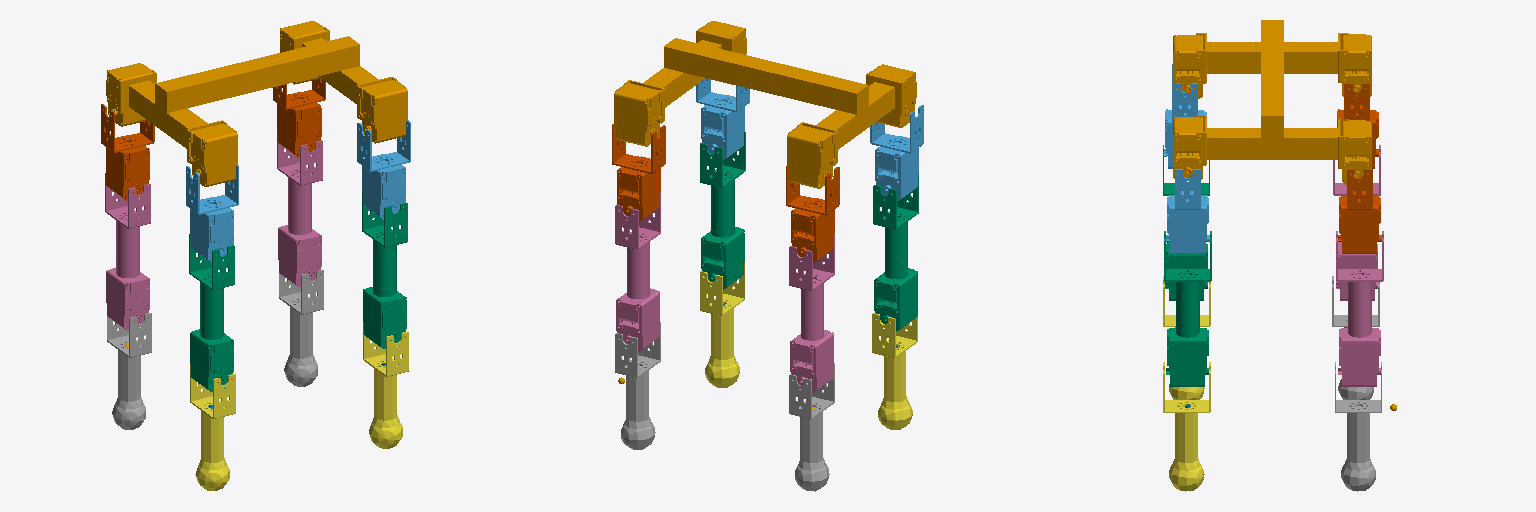
URDF robot description (mini_cheetah):
<?xml version="1.0" ?>
<robot name="mini_cheetah" xmlns:xacro="http://ros.org/wiki/xacro">
    <link name="body">
        <inertial>
            <mass value="3.3"/>
            <origin xyz="0.0 0.0 0.0"/>
            <inertia ixx="0" ixy="0" ixz="0" iyy="0" iyz="0" izz="0"/>
        </inertial>
        <visual>
            <geometry>
                <mesh filename="meshes/gujia.obj" scale="0.005 0.005 0.005"/>
            </geometry>
            <origin rpy="0 0.0 0.0" xyz="0.0 0.0 0.0"/>
        </visual>
        <collision>
            <geometry>
                <mesh filename="meshes/gujia.obj" scale="0.005 0.005 0.005"/>
            </geometry>
            <origin rpy="0 0 0" xyz="0 0 0"/>
        </collision>
    </link>

    <!--!!!!!!!!!!!! Front Right Leg !!!!!!!!!!!!!!!!!!!!!!!!!!!!!!!!!!!!-->
    <joint name="torso_to_abduct_fr_j" type="continuous">
        <axis xyz="1 0 0"/>
        <origin rpy="0 0 0" xyz="0.425 -0.33 0.06"/>
        <parent link="body"/>
        <child link="abduct_fr"/>
    </joint>
    <link name="abduct_fr">
        <inertial>
            <mass value="0.54"/>
            <origin xyz="0.425 -0.275 -0.12"/>
            <inertia ixx="0" ixy="0" ixz="0" iyy="0" iyz="0" izz="0"/>
        </inertial>
        <visual>
            <geometry>
                <mesh filename="meshes/leg1.obj" scale="0.005 0.005 0.005"/>
            </geometry>
            <origin rpy="0 0.0 0" xyz="-0.085 0.07 -0.4"/>
        </visual>
        <collision>
            <geometry>
                <mesh filename="meshes/leg1.obj" scale="0.005 0.005 0.005"/>
            </geometry>
            <origin rpy="0 0 0" xyz="-0.085 0.015 -0.33"/>
        </collision>
    </link>

    <joint name="abduct_fr_to_thigh_fr_j" type="continuous">
        <axis xyz="0 -1 0"/>
        <origin rpy="0.0 0.0 0.0" xyz="-0.01 0 -0.35"/>
        <parent link="abduct_fr"/>
        <child link="thigh_fr"/>
    </joint>
    <link name="thigh_fr">
        <inertial>
            <mass value="0.634"/>
            <origin xyz="0.0 0.016 -0.02"/>
            <inertia ixx="0" ixy="0" ixz="0"
                iyy="0" iyz="0" izz="0"/>
        </inertial>
        <visual>
            <geometry>
                <mesh filename="meshes/leg2.obj" scale="0.005 0.005 0.005"/>
            </geometry>
            <origin rpy="0.0 0 0.0" xyz="-0.04 -0.135 -0.66"/>
        </visual>
        <collision>
            <geometry>
                <mesh filename="meshes/leg2.obj" scale="0.005 0.005 0.005"/>
            </geometry>
            <origin rpy="0 0 0" xyz="-0.04 -0.135 -0.66"/>
        </collision>
    </link>

    <joint name="thigh_fr_to_knee_fr_j" type="continuous">
        <axis xyz="0 -1 0"/>
        <origin rpy="0.0 0 0.0" xyz="0.0 0.0 -0.6"/>
        <parent link="thigh_fr"/>
        <child link="shank_fr"/>
    </joint>
    <link name="shank_fr">
        <inertial>
            <mass value="0.064"/>
            <origin xyz="0.0 0.0 -0.209"/>
            <inertia ixx="0" ixy="0" ixz="0.0" iyy="0" iyz="0" izz="0"/>
        </inertial>
        <visual>
            <geometry>
                <mesh filename="meshes/leg3.obj" scale="0.005 0.005 0.005"/>
            </geometry>
            <origin rpy="0.0 0 0.0" xyz="0.015 0.09 -0.56"/>
        </visual>
        <collision>
            <geometry>
                <mesh filename="meshes/leg3.obj" scale="0.005 0.005 0.005"/>
            </geometry>
            <origin rpy="0 0 0" xyz="0.015 0.09 -0.56"/>
        </collision>
    </link>
    <link name="toe_fr">
    <contact>
      <friction_anchor/>
      <stiffness value="30000.0"/>
      <damping value="1000.0"/>
      <spinning_friction value="0.3"/>
      <lateral_friction value="3.0"/>
    </contact>
    <visual>
      <origin rpy="0 0 0" xyz="0 0 0"/>
      <geometry>
        <sphere radius="0.015"/>
      </geometry>
      <material name="darkgray"/>
    </visual>
    <collision>
      <origin rpy="0 0 0" xyz="0 0 0"/>
      <geometry>
        <sphere radius="0.015"/>
      </geometry>
    </collision>
    <inertial>
      <mass value="0.15"/>
      <inertia ixx="0" ixy="0" ixz="0.0" iyy="0" iyz="0" izz="0"/>
    </inertial>
  </link>
  <joint name="toe_fr_joint" type="fixed">
    <parent link="shank_fr"/>
    <child link="toe_fr"/>
    <origin xyz="0 0 -0.18"/>
    <dynamics damping="0.0" friction="0.0"/>
  </joint>

 
<!--!!!!!!!!!!!! Front Left Leg !!!!!!!!!!!!!!!!!!!!!!!!!!!!!!!!!!!!-->
    <joint name="torso_to_abduct_fl_j" type="continuous">
        <axis xyz="1 0 0"/>
        <origin rpy="0 0 0" xyz="0.425 0.53 0.06"/>
        <parent link="body"/>
        <child link="abduct_fl"/>
    </joint>
    <link name="abduct_fl">
        <inertial>
            <mass value="0.54"/>
            <origin xyz="0.0 0.036 0."/>
            <inertia ixx="0" ixy="0" ixz="0.0" iyy="0" iyz="0" izz="0"/>
        </inertial>
        <visual>
            <geometry>
                <mesh filename="meshes/leg1.obj" scale="0.005 0.005 0.005"/>
            </geometry>
            <origin rpy="0 0.0 0" xyz="-0.085 -0.07 -0.4"/>
        </visual>
        <collision>
            <geometry>
                <mesh filename="meshes/mini_abad.obj"/>
            </geometry>
            <origin rpy="0 0.0 0" xyz="-0.085 -0.07 -0.4"/>
        </collision>
    </link>

    <joint name="abduct_fl_to_thigh_fl_j" type="continuous">
        <axis xyz="0 -1 0"/>
        <origin rpy="0.0 0.0 0.0" xyz="-0.01 0 -0.35"/>
        <parent link="abduct_fl"/>
        <child link="thigh_fl"/>
    </joint>
    <link name="thigh_fl">
        <inertial>
            <mass value="0.634"/>
            <origin xyz="0.0 0.016 -0.02"/>
            <inertia ixx="0" ixy="0" ixz="0.0" iyy="0" iyz="0" izz="0"/>
        </inertial>
        <visual>
            <geometry>
                <mesh filename="meshes/leg2.obj" scale="0.005 0.005 0.005"/>
            </geometry>
            <origin rpy="0.0 0 0.0" xyz="-0.04 -0.275 -0.66"/>
        </visual>
        <collision>
            <geometry>
                <mesh filename="meshes/leg2.obj" scale="0.005 0.005 0.005"/>
            </geometry>
            <origin rpy="0.0 0 0.0" xyz="-0.04 -0.275 -0.66"/>
        </collision>
    </link>

    <joint name="thigh_fl_to_knee_fl_j" type="continuous">
        <axis xyz="0 -1 0"/>
        <origin rpy="0.0 0 0.0" xyz="0.0 0.0 -0.6"/>
        <parent link="thigh_fl"/>
        <child link="shank_fl"/>
    </joint>
    <link name="shank_fl">
        <inertial>
            <mass value="0.064"/>
            <origin xyz="0.0 0.0 -0.209"/>
            <inertia ixx="0" ixy="0" ixz="0.0" iyy="0" iyz="0" izz="0"/>
        </inertial>
        <visual>
            <geometry>
                <mesh filename="meshes/leg3.obj" scale="0.005 0.005 0.005"/>
            </geometry>
            <origin rpy="0.0 0 0.0" xyz="0.015 -0.05 -0.56"/>
        </visual>
        <collision>
            <geometry>
                <mesh filename="meshes/leg3.obj" scale="0.005 0.005 0.005"/>
            </geometry>
            <origin rpy="0.0 0 0.0" xyz="0.015 -0.05 -0.56"/>
        </collision>
    </link>
    <link name="toe_fl">
      <contact>
      <friction_anchor/>
      <stiffness value="30000.0"/>
      <damping value="1000.0"/>
      <spinning_friction value="0.3"/>
      <lateral_friction value="3.0"/>
    </contact>
    <visual>
      <origin rpy="0 0 0" xyz="0 0 0"/>
      <geometry>
        <sphere radius="0.015"/>
      </geometry>
      <material name="darkgray"/>
    </visual>
    <collision>
      <origin rpy="0 0 0" xyz="0 0 0"/>
      <geometry>
        <sphere radius="0.015"/>
      </geometry>
    </collision>
    <inertial>
      <mass value="0.15"/>
      <inertia ixx="0" ixy="0" ixz="0.0" iyy="0" iyz="0" izz="0"/>
    </inertial>
  </link>
  <joint name="toe_fl_joint" type="fixed">
    <parent link="shank_fl"/>
    <child link="toe_fl"/>
    <origin xyz="0 0 -0.18"/>
    <dynamics damping="0.0" friction="0.0"/>
  </joint>


<!--!!!!!!!!!!!! Hind Right Leg !!!!!!!!!!!!!!!!!!!!!!!!!!!!!!!!!!!!-->
    <joint name="torso_to_abduct_hr_j" type="continuous">
        <axis xyz="1 0 0"/>
        <origin rpy="0 0 0" xyz="-0.425 -0.33 0.06"/>
        <parent link="body"/>
        <child link="abduct_hr"/>
    </joint>
    <link name="abduct_hr">
        <inertial>
            <mass value="0.54"/>
            <origin xyz="0.0 0.036 0."/>
            <inertia ixx="0" ixy="0" ixz="0.0" iyy="0" iyz="0" izz="0"/>
        </inertial>
        <visual>
            <geometry>
                <mesh filename="meshes/leg1.obj" scale="0.005 0.005 0.005"/>
            </geometry>
            <origin rpy="0 0.0 0" xyz="-0.085 0.06 -0.4"/>
        </visual>
        <collision>
            <geometry>
                <mesh filename="meshes/leg1.obj" scale="0.005 0.005 0.005"/>
            </geometry>
            <origin rpy="0 0.0 0" xyz="-0.085 0.076 -0.4"/>
        </collision>
    </link>

    <joint name="abduct_hr_to_thigh_hr_j" type="continuous">
        <axis xyz="0 -1 0"/>
        <origin rpy="0.0 0.0 0.0" xyz="-0.01 0 -0.35"/>
        <parent link="abduct_hr"/>
        <child link="thigh_hr"/>
    </joint>
    <link name="thigh_hr">
        <inertial>
            <mass value="0.634"/>
            <origin xyz="0.0 0.016 -0.02"/>
            <inertia ixx="0" ixy="0" ixz="0.0" iyy="0" iyz="0" izz="0"/>
        </inertial>
        <visual>
            <geometry>
                <mesh filename="meshes/leg2.obj" scale="0.005 0.005 0.005"/>
            </geometry>
            <origin rpy="0.0 0 0.0" xyz="-0.04 -0.14 -0.66"/>
        </visual>
        <collision>
            <geometry>
                <mesh filename="meshes/leg2.obj" scale="0.005 0.005 0.005"/>
            </geometry>
            <origin rpy="0.0 0 0.0" xyz="-0.04 -0.14 -0.66"/>
        </collision>
    </link>

    <joint name="thigh_hr_to_knee_hr_j" type="continuous">
        <axis xyz="0 -1 0"/>
        <origin rpy="0.0 0 0.0" xyz="0.0 0.0 -0.6"/>
        <parent link="thigh_hr"/>
        <child link="shank_hr"/>
    </joint>
    <link name="shank_hr">
        <inertial>
            <mass value="0.064"/>
            <origin xyz="0.0 0.0 -0.209"/>
            <inertia ixx="0" ixy="0" ixz="0.0" iyy="0" iyz="0" izz="0"/>
        </inertial>
        <visual>
            <geometry>
                <mesh filename="meshes/leg3.obj" scale="0.005 0.005 0.005"/>
            </geometry>
            <origin rpy="0.0 0 0.0" xyz="0.015 0.09 -0.56"/>
        </visual>
        <collision>
            <geometry>
                <mesh filename="meshes/leg3.obj" scale="0.005 0.005 0.005"/>
            </geometry>
            <origin rpy="0.0 0 0.0" xyz="0.015 0.09 -0.56"/>
        </collision>
    </link>
     <link name="toe_hr">
      <contact>
      <friction_anchor/>
      <stiffness value="30000.0"/>
      <damping value="1000.0"/>
      <spinning_friction value="0.3"/>
      <lateral_friction value="3.0"/>
    </contact>
    <visual>
      <origin rpy="0 0 0" xyz="0 0 0"/>
      <geometry>
        <sphere radius="0.015"/>
      </geometry>
      <material name="darkgray"/>
    </visual>
    <collision>
      <origin rpy="0 0 0" xyz="0 0 0"/>
      <geometry>
        <sphere radius="0.015"/>
      </geometry>
    </collision>
    <inertial>
      <mass value="0.15"/>
      <inertia ixx="0" ixy="0" ixz="0.0" iyy="0" iyz="0" izz="0"/>
    </inertial>
  </link>
  <joint name="toe_hr_joint" type="fixed">
    <parent link="shank_hr"/>
    <child link="toe_hr"/>
    <origin xyz="0 0 -0.18"/>
    <dynamics damping="0.0" friction="0.0"/>
  </joint>


<!--!!!!!!!!!!!! Hind Left Leg !!!!!!!!!!!!!!!!!!!!!!!!!!!!!!!!!!!!-->
    <joint name="torso_to_abduct_hl_j" type="continuous">
        <axis xyz="1 0 0"/>
        <origin rpy="0 0 0" xyz="-0.425 0.38 0.06"/>
        <parent link="body"/>
        <child link="abduct_hl"/>
    </joint>
    <link name="abduct_hl">
        <inertial>
            <mass value="0.54"/>
            <origin xyz="0.0 0.036 0."/>
            <inertia ixx="0" ixy="0" ixz="0.0" iyy="0" iyz="0" izz="0"/>
        </inertial>
        <visual>
            <geometry>
                <mesh filename="meshes/leg1.obj" scale="0.005 0.005 0.005"/>
            </geometry>
            <origin rpy="0 0.0 0" xyz="-0.085 0.07 -0.4"/>
        </visual>
        <collision>
            <geometry>
                <mesh filename="meshes/leg1.obj" scale="0.005 0.005 0.005"/>
            </geometry>
            <origin rpy="0 0.0 0" xyz="-0.085 0.07 -0.4"/>
        </collision>
    </link>

    <joint name="abduct_hl_to_thigh_hl_j" type="continuous">
        <axis xyz="0 -1 0"/>
        <origin rpy="0.0 0.0 0.0" xyz="-0.01 0 -0.35"/>
        <parent link="abduct_hl"/>
        <child link="thigh_hl"/>
    </joint>
    <link name="thigh_hl">
        <inertial>
            <mass value="0.634"/>
            <origin xyz="0.0 0.016 -0.02"/>
            <inertia ixx="0" ixy="0" ixz="0.0" iyy="0" iyz="0" izz="0"/>
        </inertial>
        <visual>
            <geometry>
                <mesh filename="meshes/leg2.obj" scale="0.005 0.005 0.005"/>
            </geometry>
            <origin rpy="0.0 0 0.0" xyz="-0.04 -0.135 -0.66"/>
        </visual>
        <collision>
            <geometry>
                <mesh filename="meshes/leg2.obj" scale="0.005 0.005 0.005"/>
            </geometry>
            <origin rpy="0.0 0 0.0" xyz="-0.04 -0.135 -0.66"/>
        </collision>
    </link>

    <joint name="thigh_hl_to_knee_hl_j" type="continuous">
        <axis xyz="0 -1 0"/>
        <origin rpy="0.0 0 0.0" xyz="0.0 0.0 -0.6"/>
        <parent link="thigh_hl"/>
        <child link="shank_hl"/>
    </joint>
    <link name="shank_hl">
        <inertial>
            <mass value="0.064"/>
            <origin xyz="0.0 0.0 -0.209"/>
            <inertia ixx="0" ixy="0" ixz="0.0" iyy="0" iyz="0" izz="0"/>
        </inertial>
        <visual>
            <geometry>
                <mesh filename="meshes/leg3.obj" scale="0.005 0.005 0.005"/>
            </geometry>
            <origin rpy="0.0 0 0.0" xyz="0.015 0.09 -0.56"/>
        </visual>
        <collision>
            <geometry>
                <mesh filename="meshes/leg3.obj" scale="0.005 0.005 0.005"/>
            </geometry>
            <origin rpy="0.0 0 0.0" xyz="0.015 0.09 -0.56"/>
        </collision>
    </link>
    <link name="toe_hl">
      <contact>
      <friction_anchor/>
      <stiffness value="30000.0"/>
      <damping value="1000.0"/>
      <spinning_friction value="0.3"/>
      <lateral_friction value="3.0"/>
    </contact>
    <visual>
      <origin rpy="0 0 0" xyz="0 0 0"/>
      <geometry>
        <sphere radius="0.015"/>
      </geometry>
      <material name="darkgray"/>
    </visual>
    <collision>
      <origin rpy="0 0 0" xyz="0 0 0"/>
      <geometry>
        <sphere radius="0.015"/>
      </geometry>
    </collision>
    <inertial>
      <mass value="0.15"/>
      <inertia ixx="0" ixy="0" ixz="0.0" iyy="0" iyz="0" izz="0"/>
    </inertial>
  </link>
  <joint name="toe_hl_joint" type="fixed">
    <parent link="shank_hl"/>
    <child link="toe_hl"/>
    <origin xyz="0 0 -0.18"/>
    <dynamics damping="0.0" friction="0.0"/>
  </joint>



</robot>

--- Facts derived from the render (not from the file) ---
The picture shows the robot from 3 angles, left to right: view 1: azimuth 30°, elevation 25°; view 2: azimuth 150°, elevation 25°; view 3: azimuth 270°, elevation 25°; orthographic projection.
Model mini_cheetah with 17 links and 16 joints (12 continuous, 4 fixed), rooted at body, posed every joint at zero.
Links seen in each view (by area): view 1: body, thigh_fr, thigh_hl, thigh_fl, thigh_hr, shank_fr, shank_hr, shank_fl, shank_hl, abduct_fr, abduct_hr, abduct_hl (+1 smaller); view 2: body, thigh_fr, thigh_hr, thigh_fl, thigh_hl, shank_fl, shank_hl, shank_fr, shank_hr, abduct_fl, abduct_hl, abduct_hr (+1 smaller); view 3: body, thigh_fr, thigh_fl, abduct_fl, abduct_fr, shank_fr, shank_fl, thigh_hl, thigh_hr, abduct_hl, abduct_hr, shank_hl (+1 smaller).
Link boxes in pixels (<box>): body: <box>106,21,407,186</box>; thigh_fr: <box>362,192,407,348</box>; thigh_hl: <box>105,173,150,330</box>; thigh_fl: <box>277,129,322,286</box>; thigh_hr: <box>189,234,234,391</box>; shank_fr: <box>363,322,408,448</box>; shank_hr: <box>190,364,235,490</box>; shank_fl: <box>279,270,323,386</box>; shank_hl: <box>107,313,151,429</box>; abduct_fr: <box>357,120,410,219</box>; abduct_hr: <box>186,165,238,262</box>; abduct_hl: <box>101,104,154,200</box>; body: <box>614,21,916,188</box>; thigh_fr: <box>700,132,745,289</box>; thigh_hr: <box>873,174,918,330</box>; thigh_fl: <box>615,194,660,351</box>; thigh_hl: <box>789,235,834,392</box>; shank_fl: <box>615,322,660,449</box>; shank_hl: <box>789,363,834,491</box>; shank_fr: <box>700,262,744,387</box>; shank_hr: <box>872,313,917,429</box>; abduct_fl: <box>612,124,665,221</box>; abduct_hl: <box>786,166,839,262</box>; abduct_hr: <box>870,105,923,200</box>; body: <box>1173,20,1371,184</box>; thigh_fr: <box>1164,231,1211,386</box>; thigh_fl: <box>1336,231,1383,386</box>; abduct_fl: <box>1338,150,1381,253</box>; abduct_fr: <box>1166,169,1209,253</box>; shank_fr: <box>1163,362,1210,491</box>; shank_fl: <box>1335,362,1381,491</box>; thigh_hl: <box>1333,145,1380,300</box>; thigh_hr: <box>1163,145,1209,300</box>; abduct_hl: <box>1337,83,1378,168</box>; abduct_hr: <box>1164,64,1206,168</box>; shank_hl: <box>1332,276,1379,399</box>.
Bounding box of the posed robot: 1.05 × 0.9833 × 1.75 m (x, y, z).
13 mesh visuals loaded from 4 distinct referenced files (4 OBJ).
